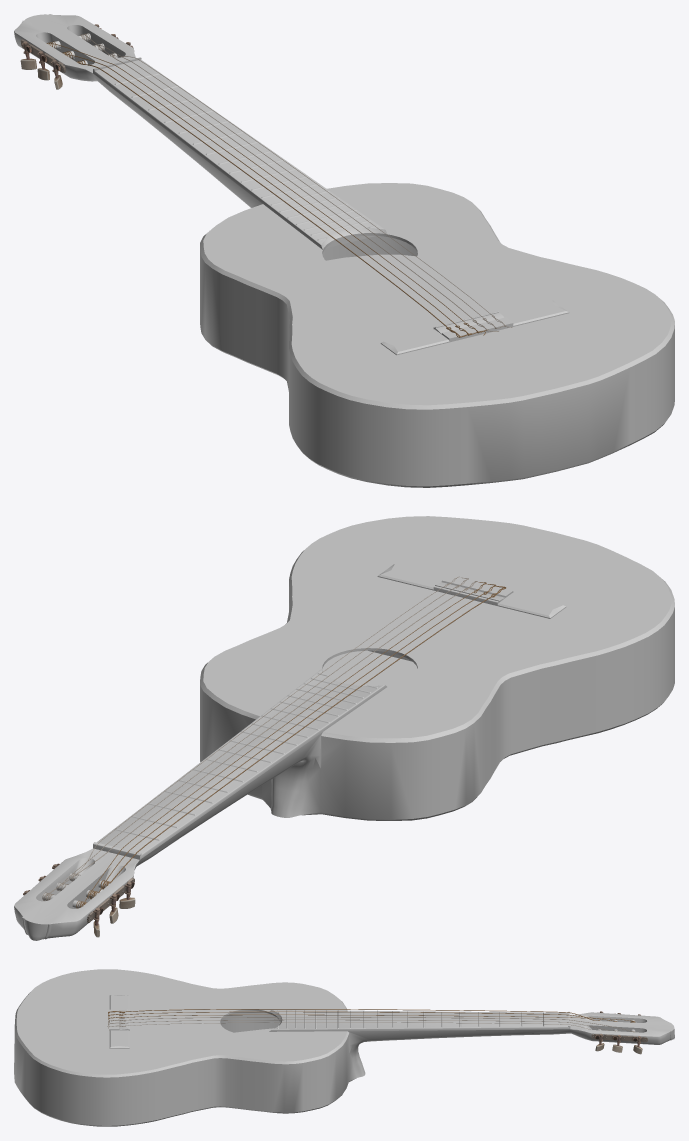
3 renders of one model, top to bottom at view 1: azimuth 30°, elevation 25°; view 2: azimuth 150°, elevation 25°; view 3: azimuth 270°, elevation 25°, orthographic. The views are drawn at different scales.
Visible parts, largest first — view 1: Gitara_0, Struny2_3, Struny1_2, MEtal_1; view 2: Gitara_0, Struny2_3, Struny1_2, MEtal_1; view 3: Gitara_0, Struny2_3, Struny1_2, MEtal_1.
Part boxes in pixels (x1=…): Gitara_0: x1=14, y1=14, x2=674, y2=487; Struny2_3: x1=46, y1=41, x2=488, y2=337; Struny1_2: x1=79, y1=33, x2=512, y2=331; MEtal_1: x1=20, y1=24, x2=133, y2=89; Gitara_0: x1=14, y1=516, x2=674, y2=940; Struny2_3: x1=76, y1=582, x2=506, y2=908; Struny1_2: x1=42, y1=576, x2=477, y2=900; MEtal_1: x1=23, y1=863, x2=135, y2=937; Gitara_0: x1=14, y1=969, x2=674, y2=1126; Struny2_3: x1=108, y1=1009, x2=635, y2=1022; Struny1_2: x1=107, y1=1017, x2=634, y2=1032; MEtal_1: x1=591, y1=1011, x2=647, y2=1054.
Size of the model in its own units: 6.49 by 1.64 by 16.89.
